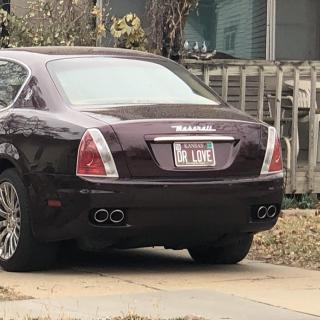license: (175, 143, 217, 168)
